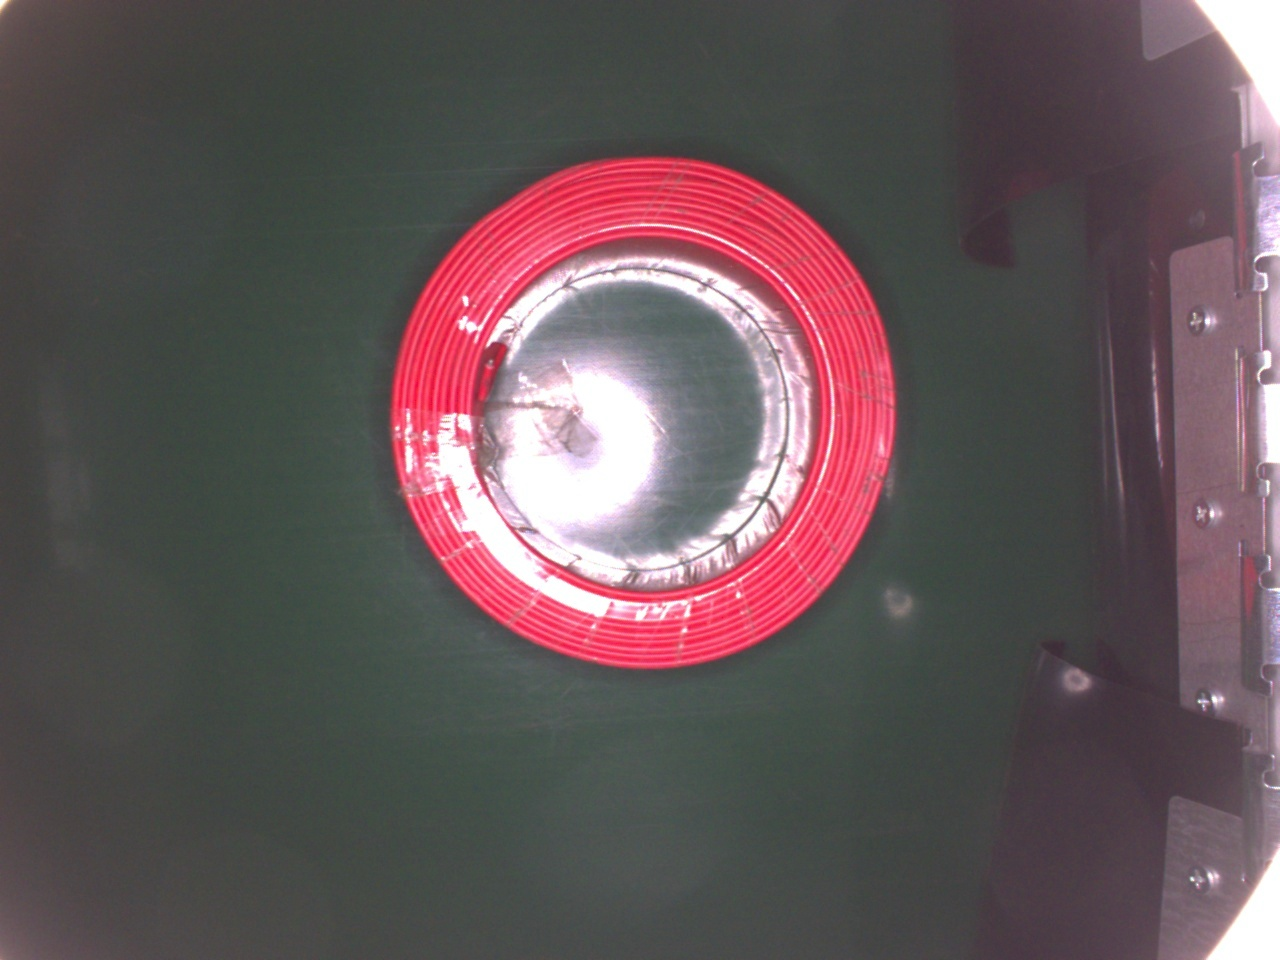red: (387, 152, 899, 671)
